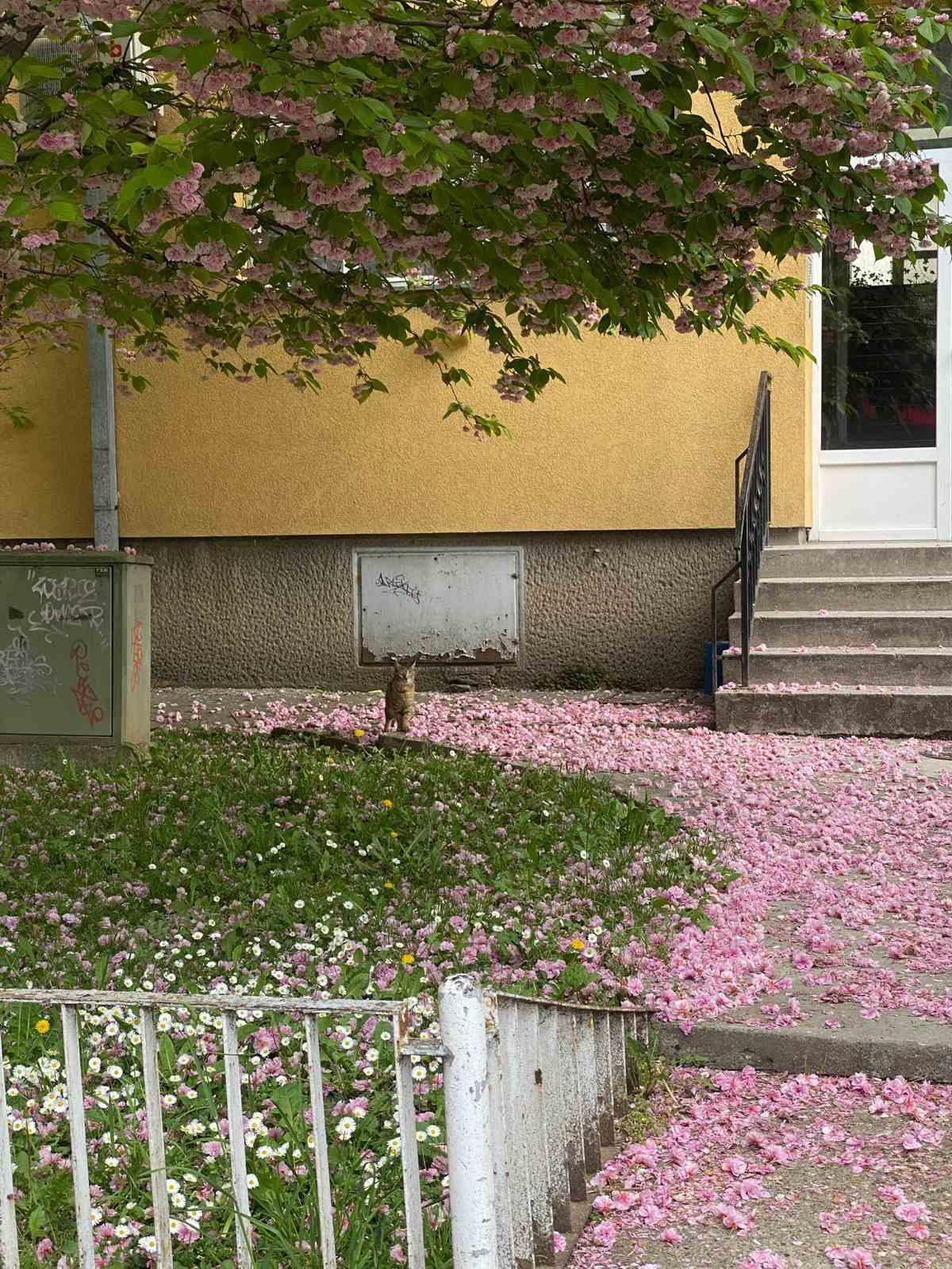macka: (385, 658, 417, 733)
